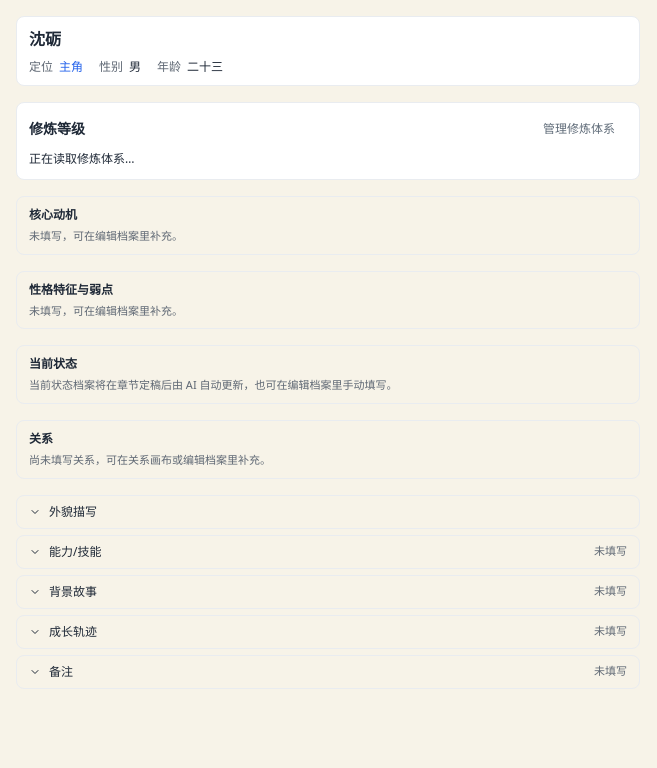
it: character profile detail sections › reveals the正文 directly below its own标题 when the row is clicked
Click the heading with test id "profile-detail-summary" showing "外貌描写" at coordinates (63, 511), box [29,503,97,520]
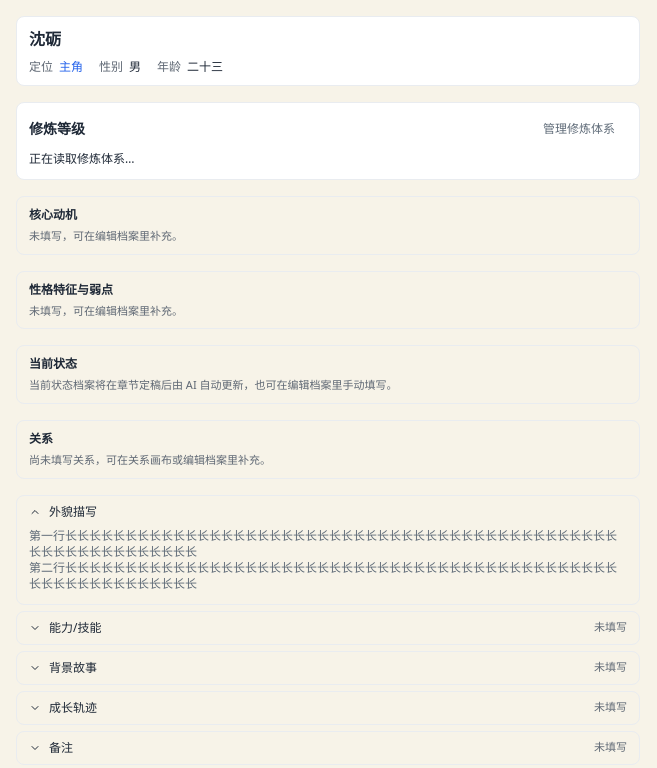
Expected: the element with test id "profile-detail-body" is shown, [17,528,639,604]
